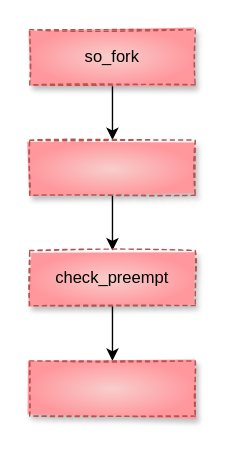
Image size: 228x450. Some labels were removed from this diagram. Here are the shapes that lost their labels. From the top down, the centre of each, then its label:
At point (113, 169): "schedule_thread".
At point (113, 390): "thread_task".
